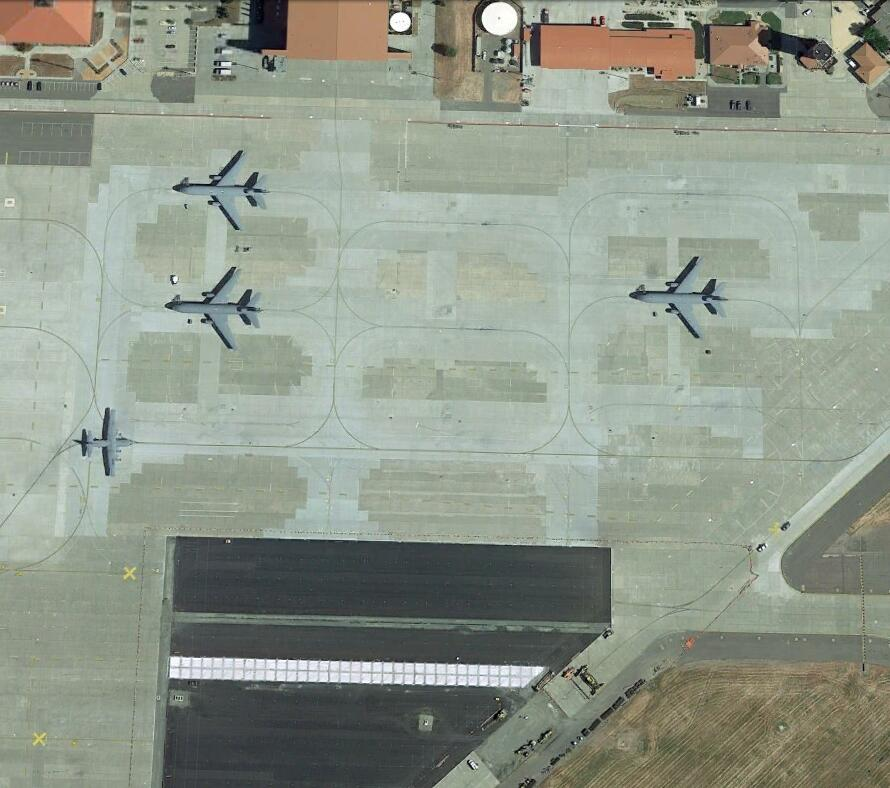A18: (631, 255, 730, 344), (166, 266, 264, 350), (173, 149, 272, 232)
A2: (81, 407, 136, 477)
